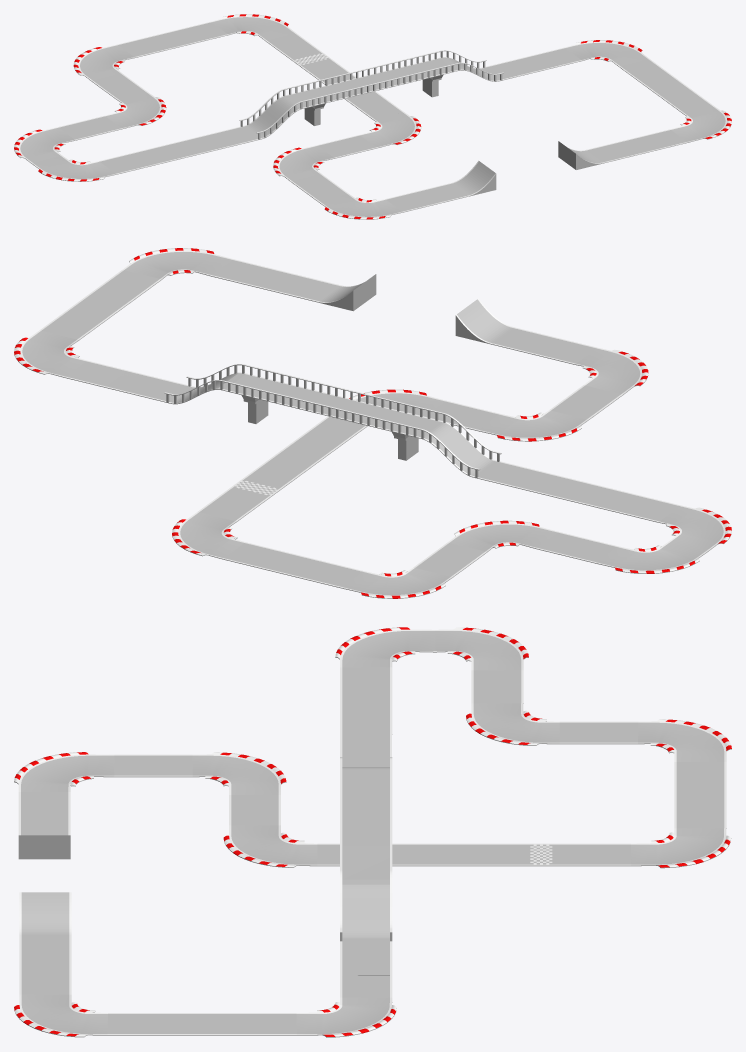
The model's file is pista_text.obj.
The picture shows the model from 3 angles, top to bottom: view 1: azimuth 30°, elevation 25°; view 2: azimuth 150°, elevation 25°; view 3: azimuth 270°, elevation 25°; orthographic projection. The views are drawn at different scales.
Visible parts, largest first — view 1: Cube.003_Cube.004, Cube.007_Cube.019, Cube.025_Cube.034, Cube.011_Cube.012, Cube.010_Cube.022, Cube.015_Cube.024, Cube.001_Cube.002, Cube.021_Cube.030, Cube.023_Cube.032, Cube.013_Cube.014, Cube.006_Cube.018, Cube.017_Cube.026 (+19 smaller); view 2: Cube.003_Cube.004, Cube.013_Cube.014, Cube.023_Cube.032, Cube.006_Cube.018, Cube.015_Cube.024, Cube.001_Cube.002, Cube.011_Cube.012, Cube.025_Cube.034, Cube.010_Cube.022, Cube.007_Cube.019, Cube.017_Cube.026, Cube.002_Cube.003 (+20 smaller); view 3: Cube.003_Cube.004, Cube.010_Cube.022, Cube.007_Cube.019, Cube.015_Cube.024, Cube.002_Cube.003, Cube.006_Cube.018, Cube.001_Cube.002, Cube.011_Cube.012, Cube.021_Cube.030, Cube.025_Cube.034, Cube.013_Cube.014, Cube.023_Cube.032 (+19 smaller).
Part boxes in pixels (x1=…): Cube.003_Cube.004: x1=193, y1=50, x2=550, y2=151; Cube.007_Cube.019: x1=31, y1=155, x2=116, y2=181; Cube.025_Cube.034: x1=317, y1=193, x2=402, y2=219; Cube.011_Cube.012: x1=211, y1=14, x2=295, y2=40; Cube.010_Cube.022: x1=564, y1=40, x2=649, y2=66; Cube.015_Cube.024: x1=670, y1=106, x2=731, y2=142; Cube.001_Cube.002: x1=105, y1=93, x2=166, y2=129; Cube.021_Cube.030: x1=360, y1=112, x2=421, y2=147; Cube.023_Cube.032: x1=273, y1=145, x2=334, y2=181; Cube.013_Cube.014: x1=73, y1=44, x2=135, y2=80; Cube.006_Cube.018: x1=14, y1=127, x2=75, y2=163; Cube.017_Cube.026: x1=432, y1=160, x2=496, y2=200; Cube.003_Cube.004: x1=105, y1=364, x2=560, y2=493; Cube.013_Cube.014: x1=341, y1=567, x2=452, y2=598; Cube.023_Cube.032: x1=477, y1=410, x2=588, y2=441; Cube.006_Cube.018: x1=595, y1=543, x2=706, y2=573; Cube.015_Cube.024: x1=122, y1=248, x2=232, y2=279; Cube.001_Cube.002: x1=448, y1=520, x2=558, y2=551; Cube.011_Cube.012: x1=172, y1=512, x2=244, y2=559; Cube.025_Cube.034: x1=575, y1=348, x2=648, y2=394; Cube.010_Cube.022: x1=14, y1=330, x2=86, y2=377; Cube.007_Cube.019: x1=658, y1=505, x2=731, y2=552; Cube.017_Cube.026: x1=455, y1=298, x2=537, y2=350; Cube.002_Cube.003: x1=294, y1=274, x2=376, y2=311; Cube.003_Cube.004: x1=340, y1=733, x2=392, y2=975; Cube.010_Cube.022: x1=296, y1=997, x2=396, y2=1037; Cube.007_Cube.019: x1=335, y1=627, x2=435, y2=667; Cube.015_Cube.024: x1=14, y1=994, x2=107, y2=1037; Cube.002_Cube.003: x1=19, y1=892, x2=71, y2=948; Cube.006_Cube.018: x1=435, y1=627, x2=528, y2=670; Cube.001_Cube.002: x1=466, y1=703, x2=559, y2=745; Cube.011_Cube.012: x1=631, y1=828, x2=731, y2=868; Cube.021_Cube.030: x1=223, y1=825, x2=317, y2=867; Cube.025_Cube.034: x1=14, y1=752, x2=114, y2=791; Cube.013_Cube.014: x1=638, y1=719, x2=731, y2=761; Cube.023_Cube.032: x1=192, y1=752, x2=286, y2=794.
Size of the model in its own units: 534 by 27.74 by 395.
